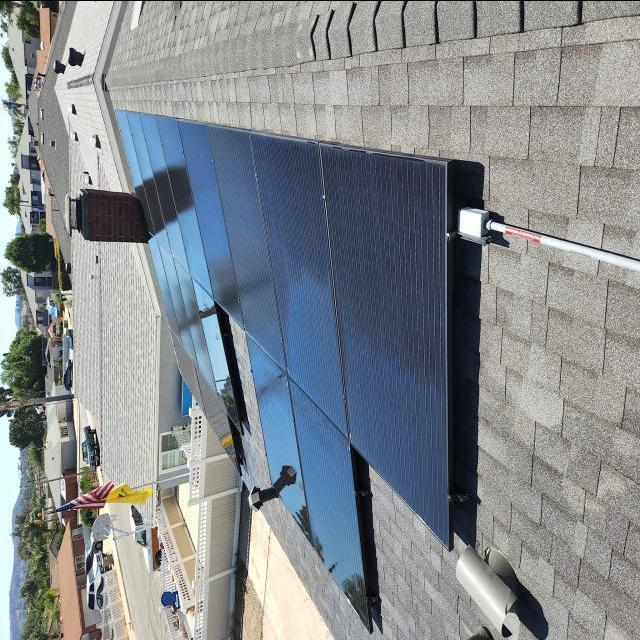Photovoltaic-Panel: (118, 110, 452, 628)
